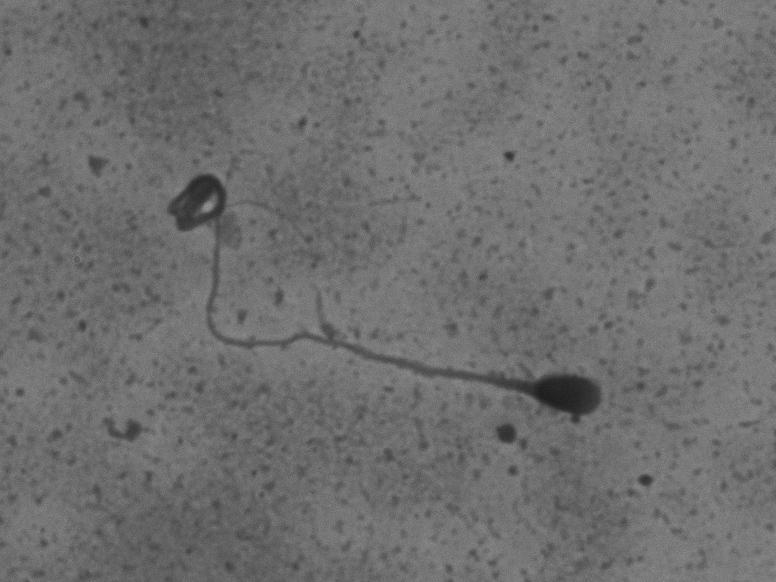Abnormal: (197, 147, 608, 437)
